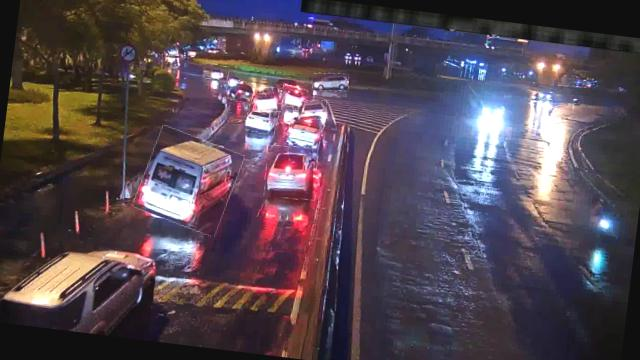Bus: (134, 127, 242, 234)
Car: (6, 236, 160, 332), (262, 144, 319, 202), (286, 110, 324, 148), (244, 102, 278, 136), (250, 85, 283, 114), (310, 71, 350, 94), (224, 79, 254, 104), (296, 98, 328, 121), (278, 84, 308, 108), (203, 64, 230, 82)
